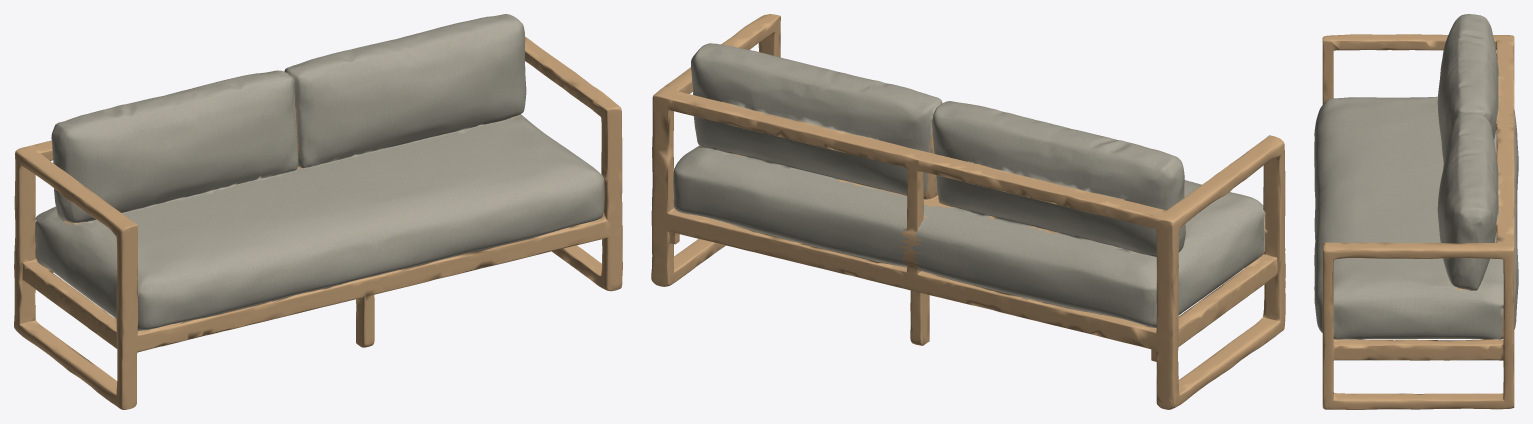
The picture shows the model from 3 angles, left to right: view 1: azimuth 30°, elevation 25°; view 2: azimuth 150°, elevation 25°; view 3: azimuth 270°, elevation 25°; orthographic projection. The views are drawn at different scales.
Visible parts, largest first — view 1: tripo_node_bdec2244-91b7-498d-a4b0-343b65cdb4c5; view 2: tripo_node_bdec2244-91b7-498d-a4b0-343b65cdb4c5; view 3: tripo_node_bdec2244-91b7-498d-a4b0-343b65cdb4c5.
Part boxes in pixels (<box>): tripo_node_bdec2244-91b7-498d-a4b0-343b65cdb4c5: <box>14,14,622,409</box>; tripo_node_bdec2244-91b7-498d-a4b0-343b65cdb4c5: <box>651,14,1285,409</box>; tripo_node_bdec2244-91b7-498d-a4b0-343b65cdb4c5: <box>1314,14,1518,409</box>.
Bounding box in the file's own units: 2 × 0.84 × 0.8001.
Materials: 2 (1 with a texture image).
